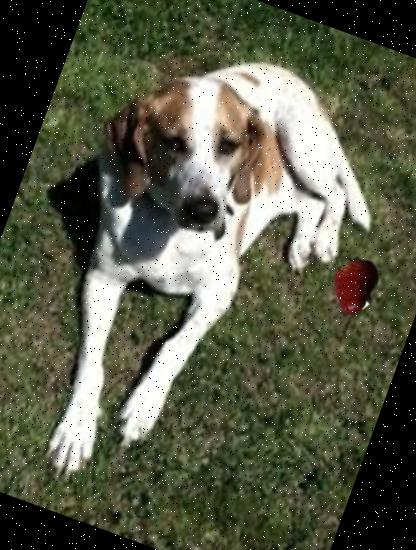Strawberry: (318, 247, 388, 316)
